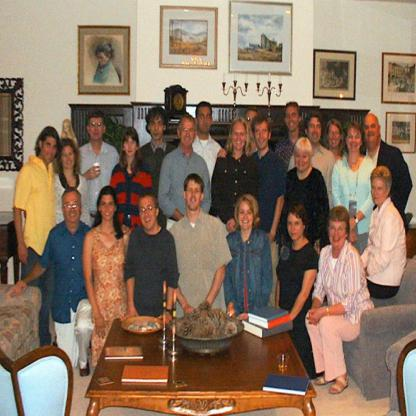face: (140, 201, 157, 230), (64, 196, 81, 221), (330, 223, 346, 247), (288, 217, 304, 241), (187, 185, 202, 210), (239, 206, 255, 229), (372, 181, 387, 205), (365, 120, 380, 144), (44, 139, 58, 164), (150, 117, 165, 140), (255, 127, 270, 150), (348, 130, 362, 153), (309, 120, 323, 143), (198, 111, 212, 134), (89, 119, 104, 140), (296, 151, 311, 172), (181, 125, 196, 146), (102, 197, 115, 220), (233, 128, 247, 149), (246, 114, 258, 137), (286, 109, 299, 130), (329, 127, 341, 148), (125, 137, 137, 157), (62, 150, 74, 169), (99, 53, 110, 66)
